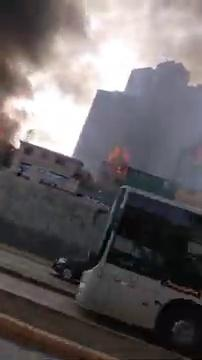fire: (108, 145, 136, 174)
smoke: (5, 1, 67, 55)
